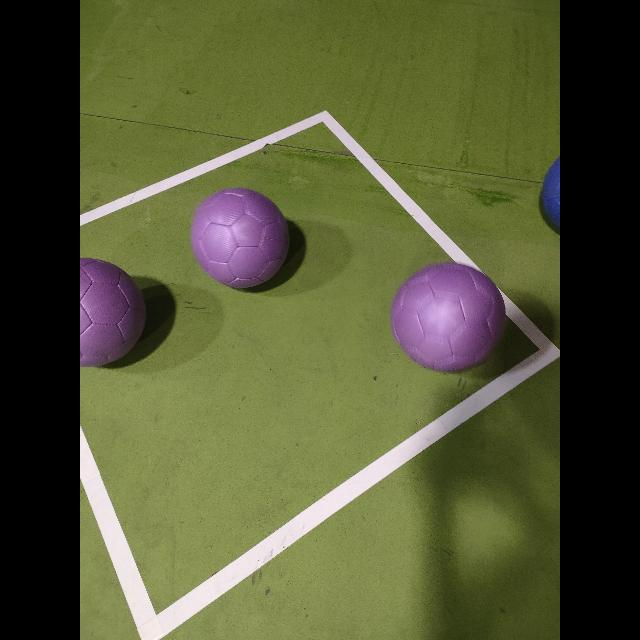B: (542, 156, 560, 228)
P: (391, 262, 505, 372), (191, 188, 289, 288), (80, 258, 146, 366)
